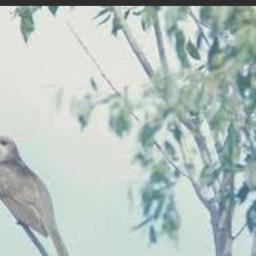Cuckoo: (0, 136, 76, 256)
